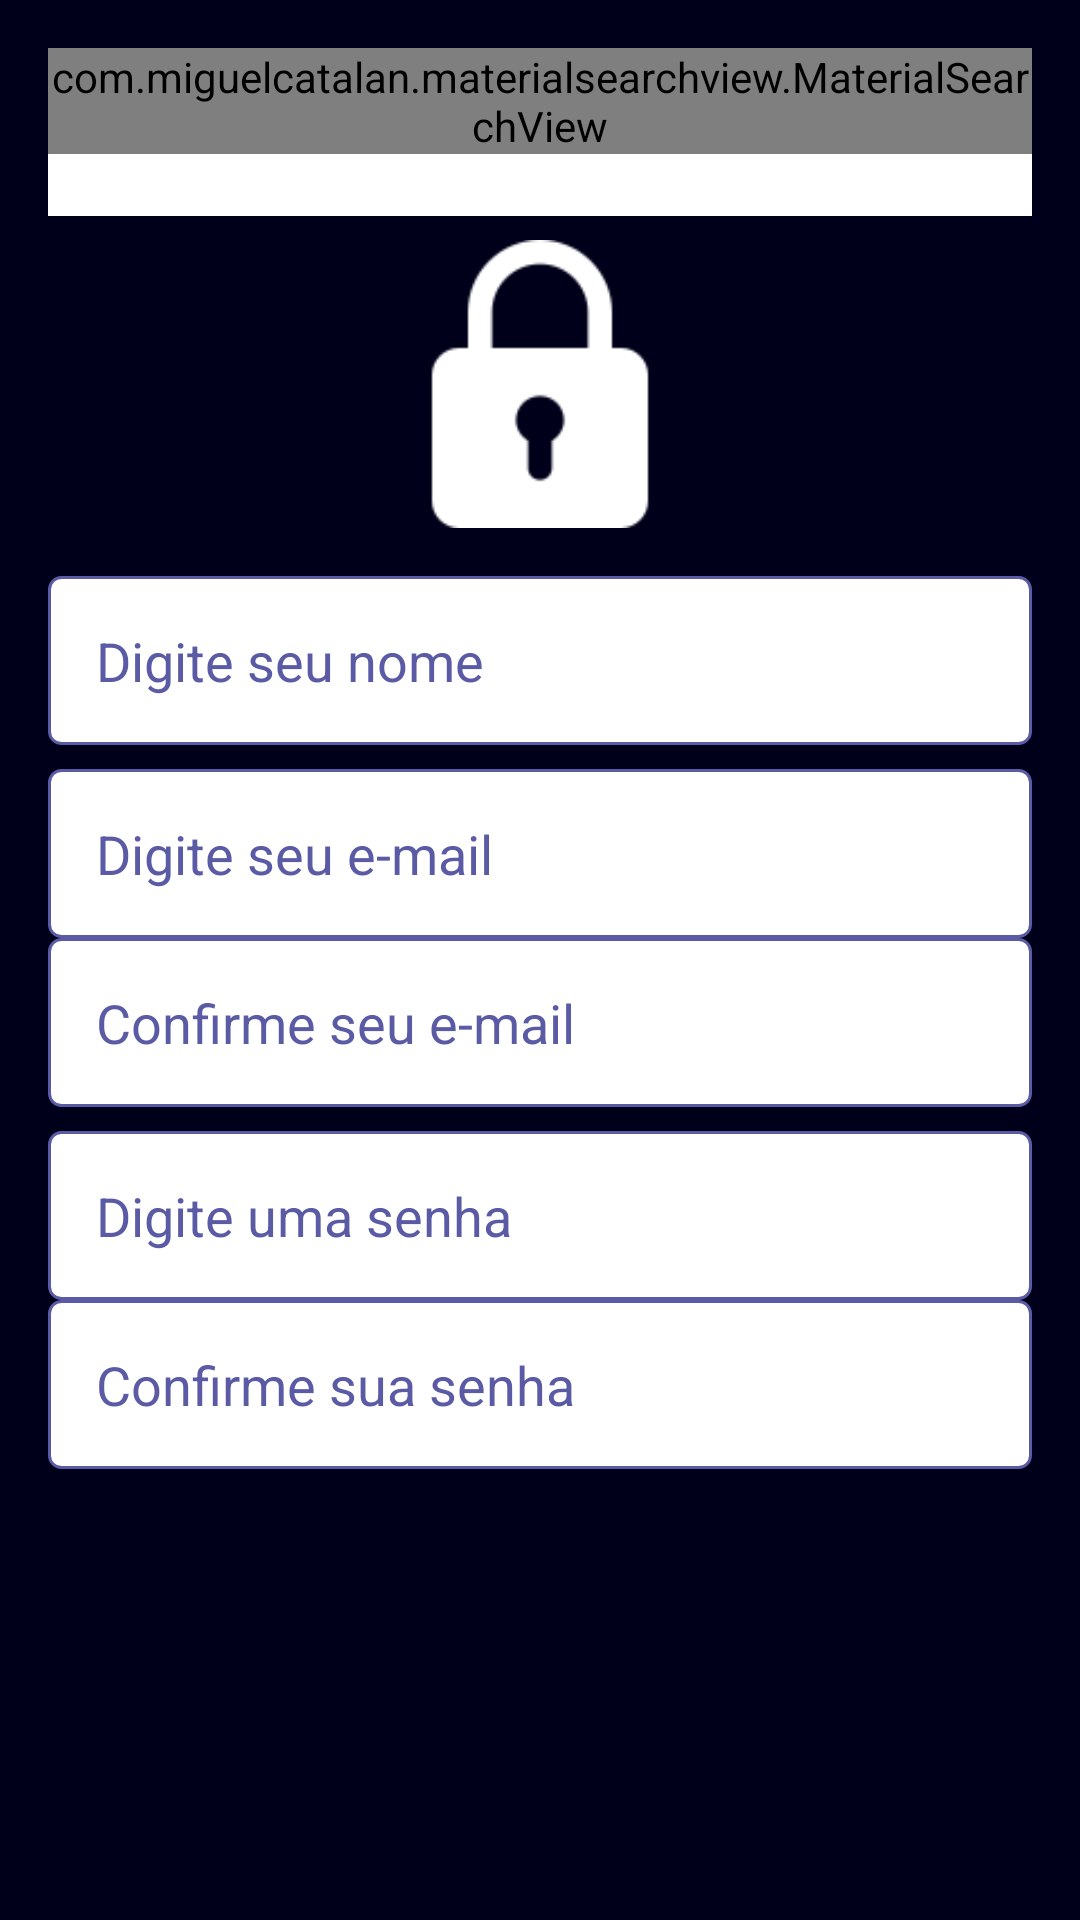

Named icons in this screenshot (1080x1920) and their bounding boxes, (x1, y1, x2, y2):
padlock: (431, 240, 649, 528)
